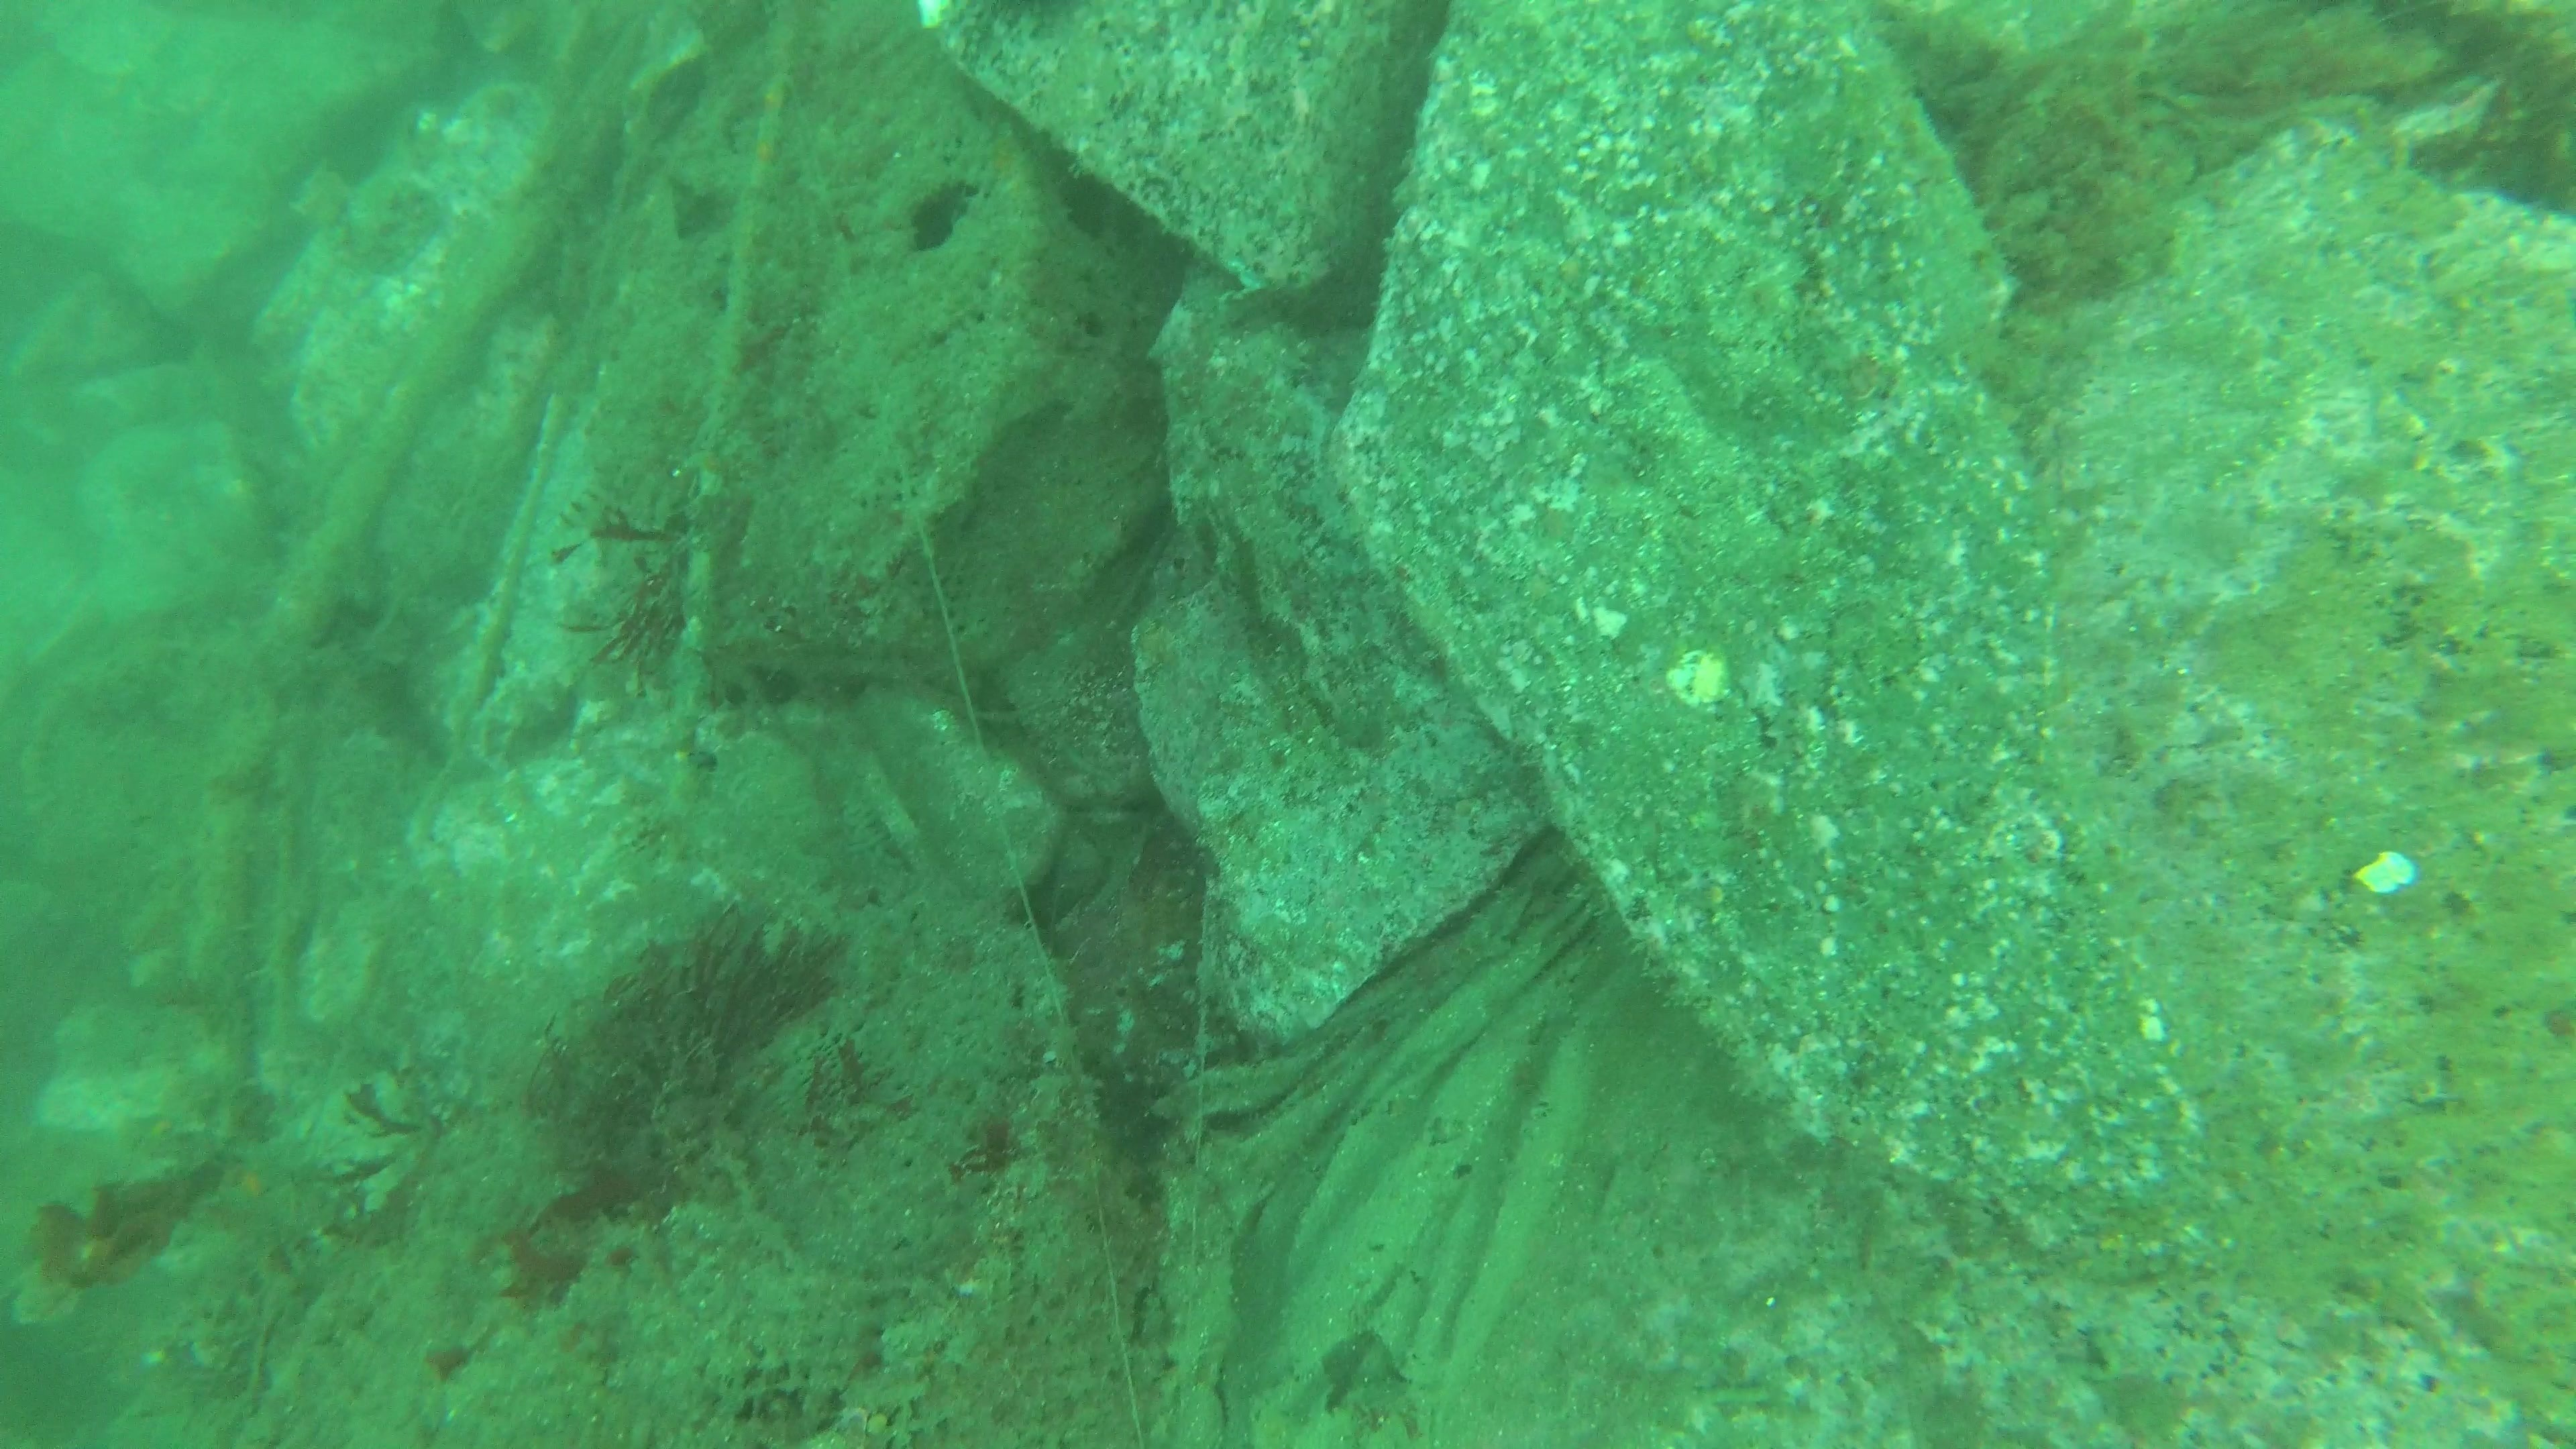echinus: (899, 172, 984, 255)
